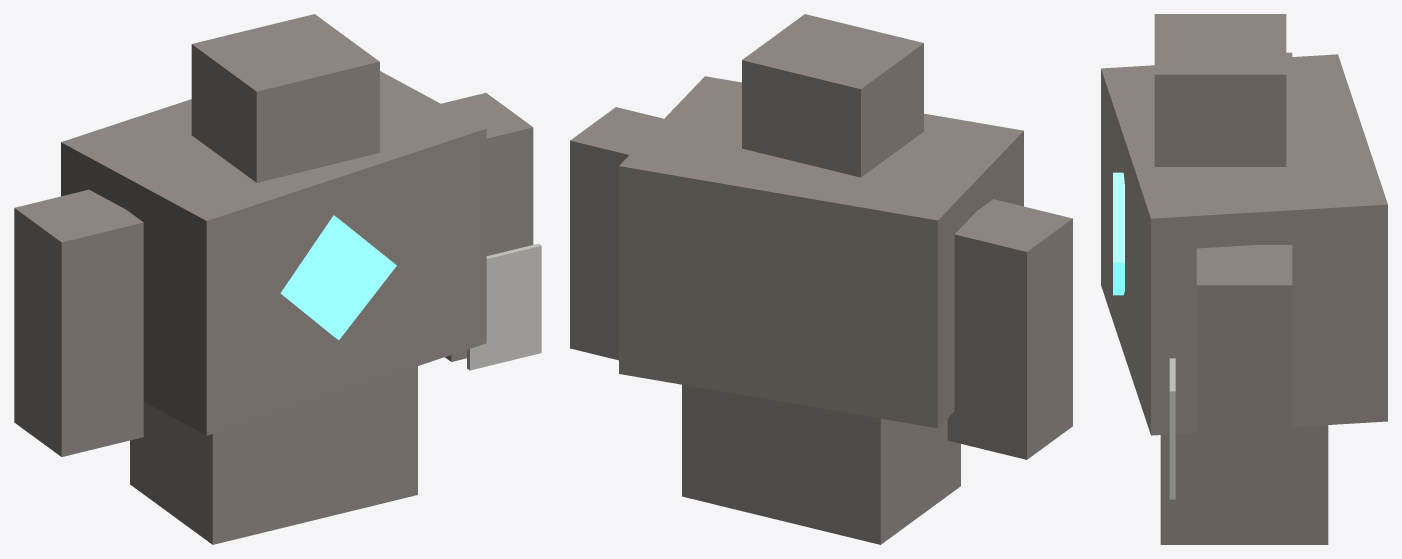
The model's file is golem.glb.
The picture shows the model from 3 angles, left to right: view 1: azimuth 30°, elevation 25°; view 2: azimuth 150°, elevation 25°; view 3: azimuth 270°, elevation 25°; orthographic projection. The views are drawn at different scales.
Visible parts, largest first — view 1: BodyMesh, RuneChest; view 2: BodyMesh; view 3: BodyMesh, RuneChest.
Boxes of the visible parts, x1,y1,x2,y2 form: BodyMesh: (14,14,541,544); RuneChest: (280,215,396,339); BodyMesh: (570,14,1072,544); BodyMesh: (1101,14,1387,544); RuneChest: (1113,172,1124,295).
Size of the model in its own units: 0.92 by 0.83 by 0.4796.
